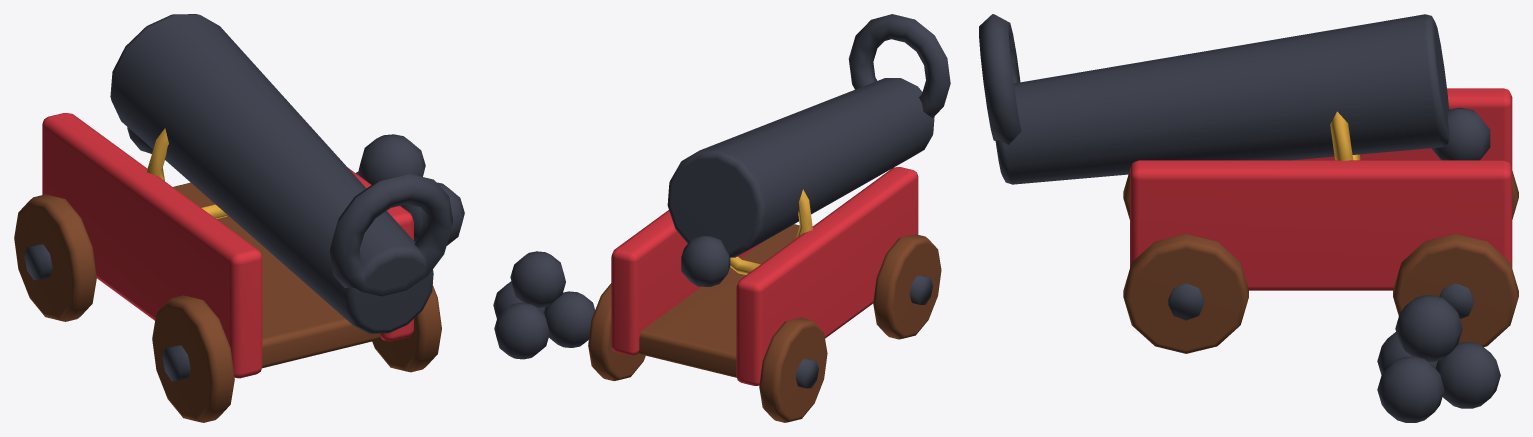
The model's file is cove_cannon.glb.
The picture shows the model from 3 angles, left to right: view 1: azimuth 30°, elevation 25°; view 2: azimuth 150°, elevation 25°; view 3: azimuth 270°, elevation 25°; orthographic projection. The views are drawn at different scales.
Parts seen in each view (by area): view 1: Cannon; view 2: Cannon; view 3: Cannon.
Part boxes in pixels (box(x1,y1,x2,y2)): Cannon: box(14, 14, 464, 422); Cannon: box(493, 14, 950, 422); Cannon: box(979, 14, 1518, 422).
Bounding box in the file's own units: 2.02 × 1.38 × 2.4.
